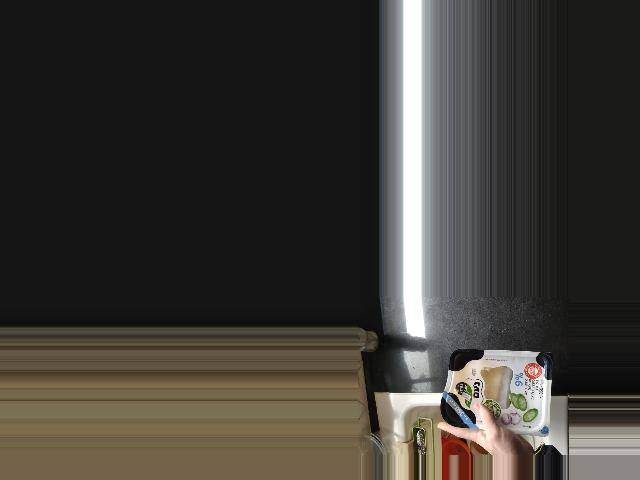cheese: (440, 350, 548, 435)
